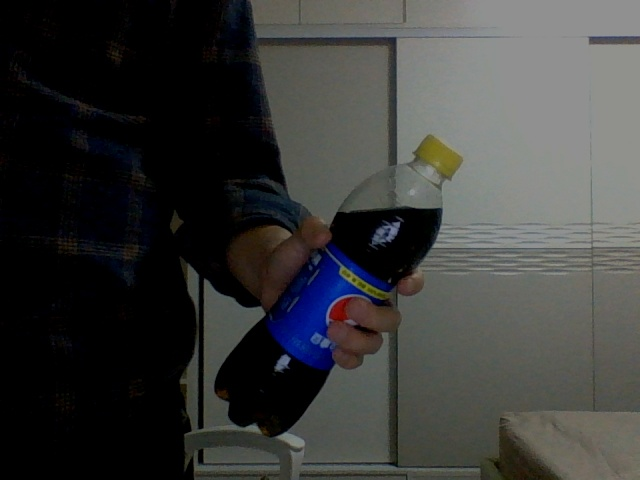Cola: (214, 134, 464, 437)
